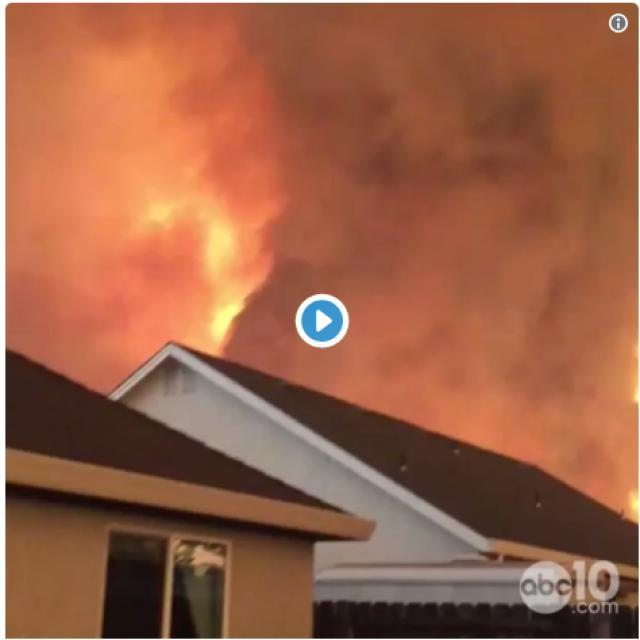Smoke: (221, 0, 640, 523), (0, 0, 288, 340)
